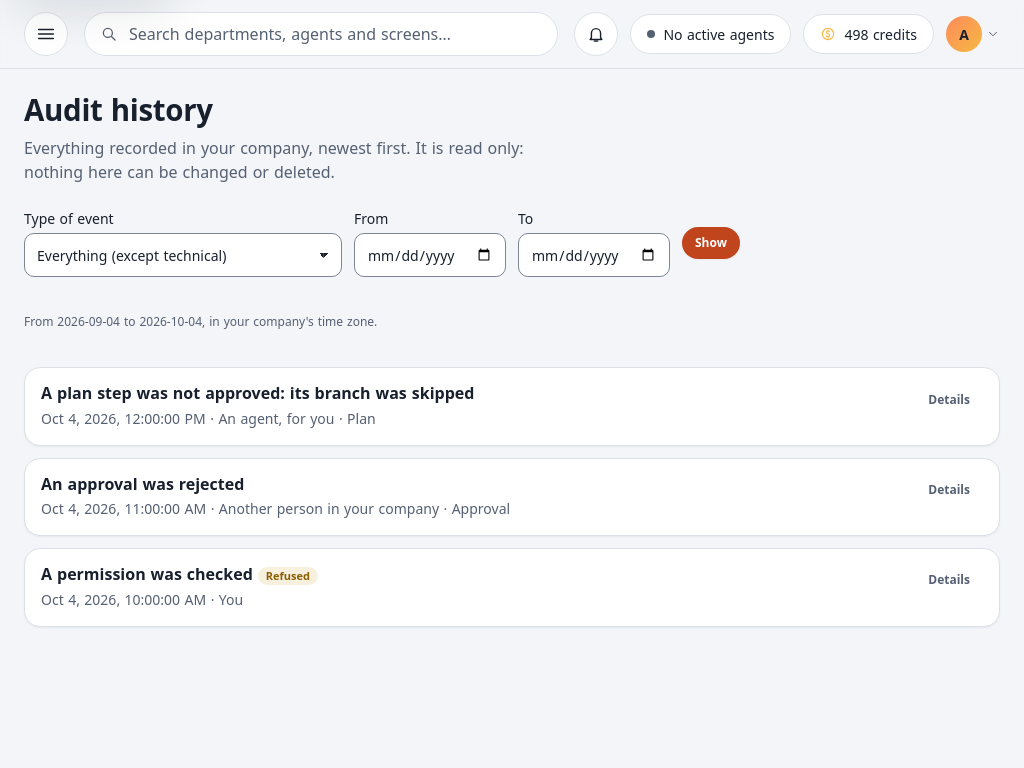
Test case: The audit history (ADR-0147) › filters by type of event and days, as the server checks them
Expected: the list named "Audit history" is shown, [24,367,1000,627]
Select "Tools and approvals" in the dropdown labelled "Type of event" at x=183, y=255, box [24,233,342,277]
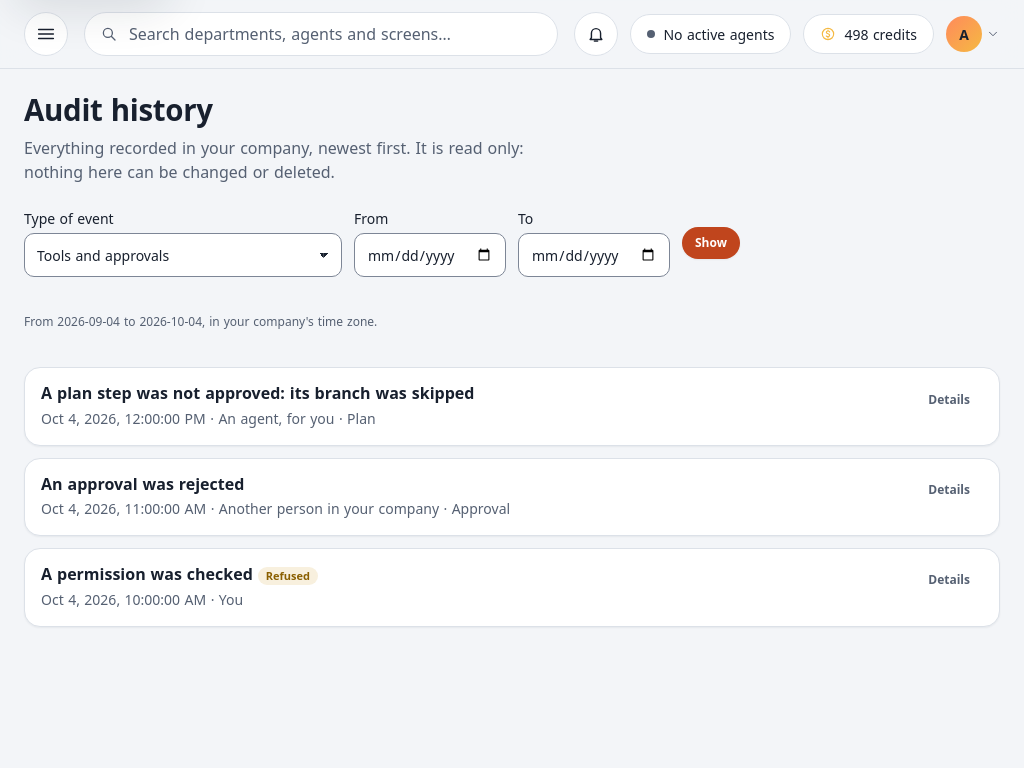
Type "2026-10-01" into the date field labelled "From".
click(430, 255); type("2026-10-01")  # box [354,233,506,277]
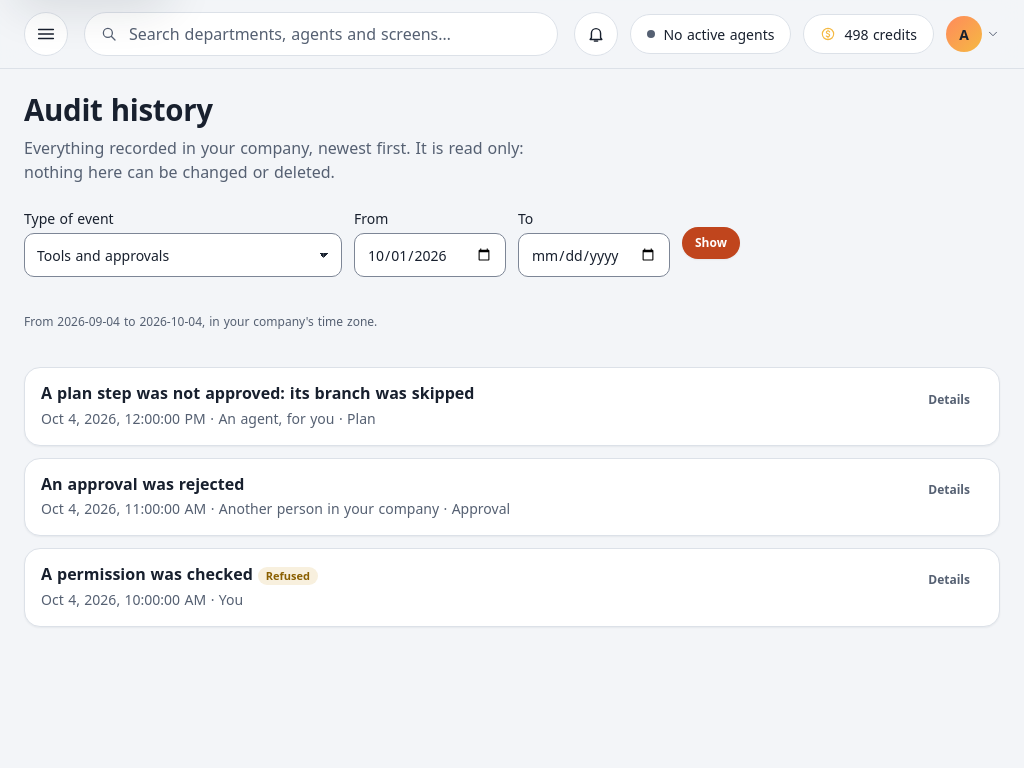
Type "2026-10-04" into the date field labelled "To".
click(594, 255); type("2026-10-04")  # box [518,233,670,277]
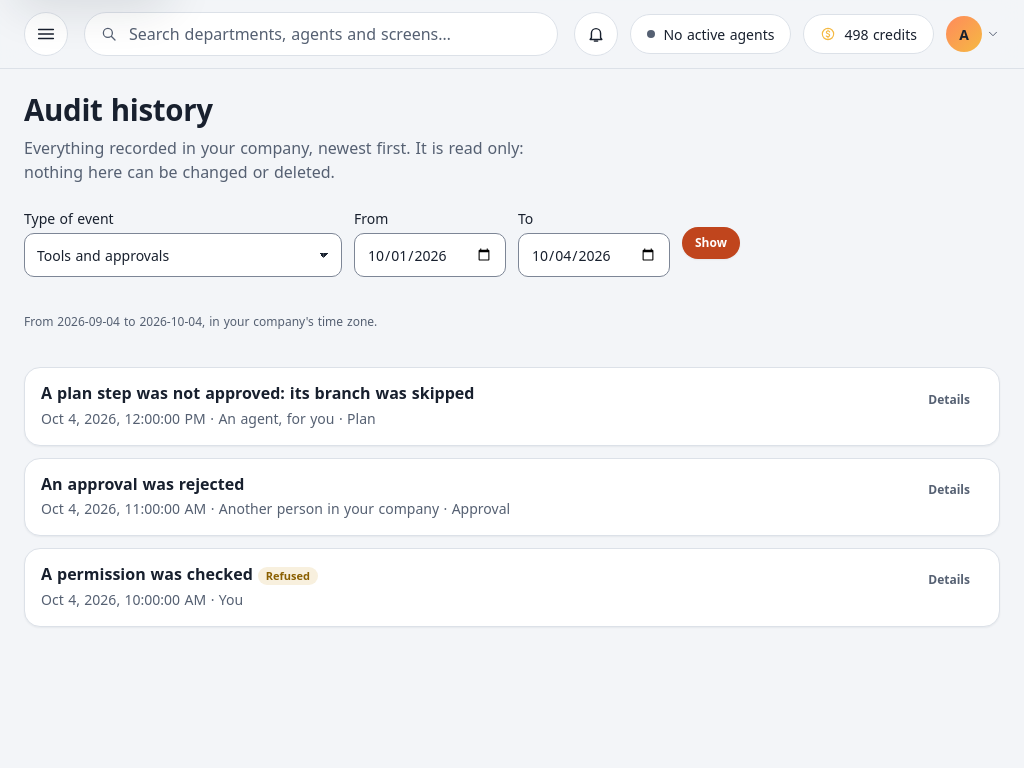
Click the button "Show".
click(711, 243)  # box [682,227,740,259]
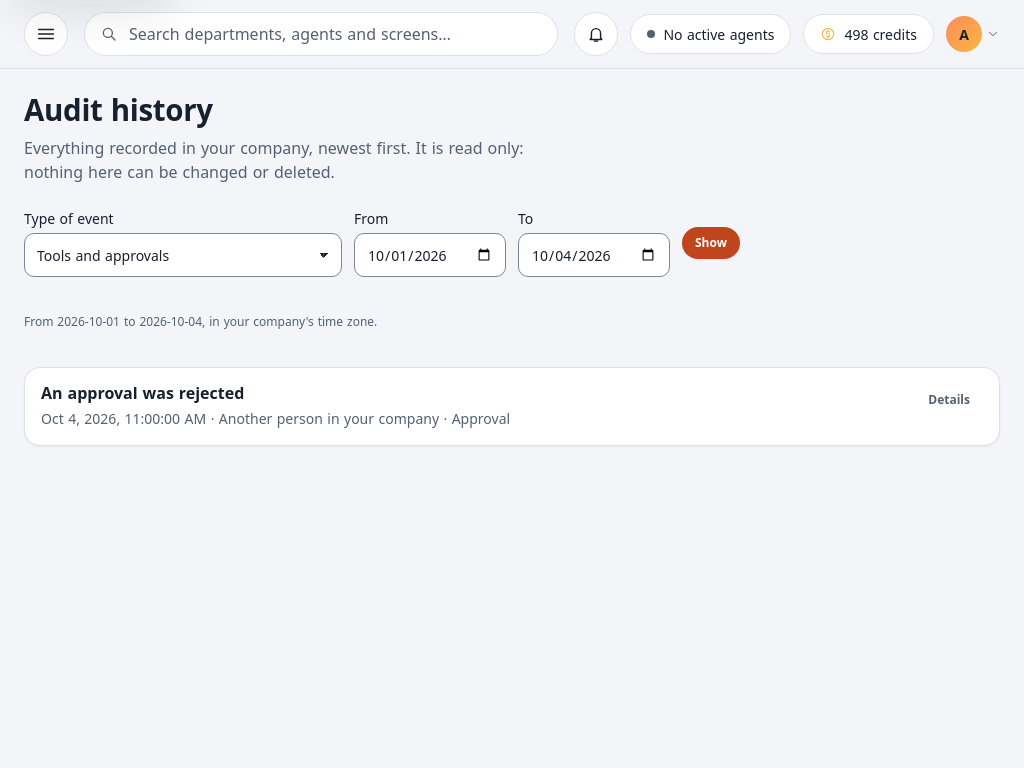
Expected: the text "An approval was rejected" is shown, [41,382,244,404]
Expected: the number of list items is 1, [24,367,1000,446]
